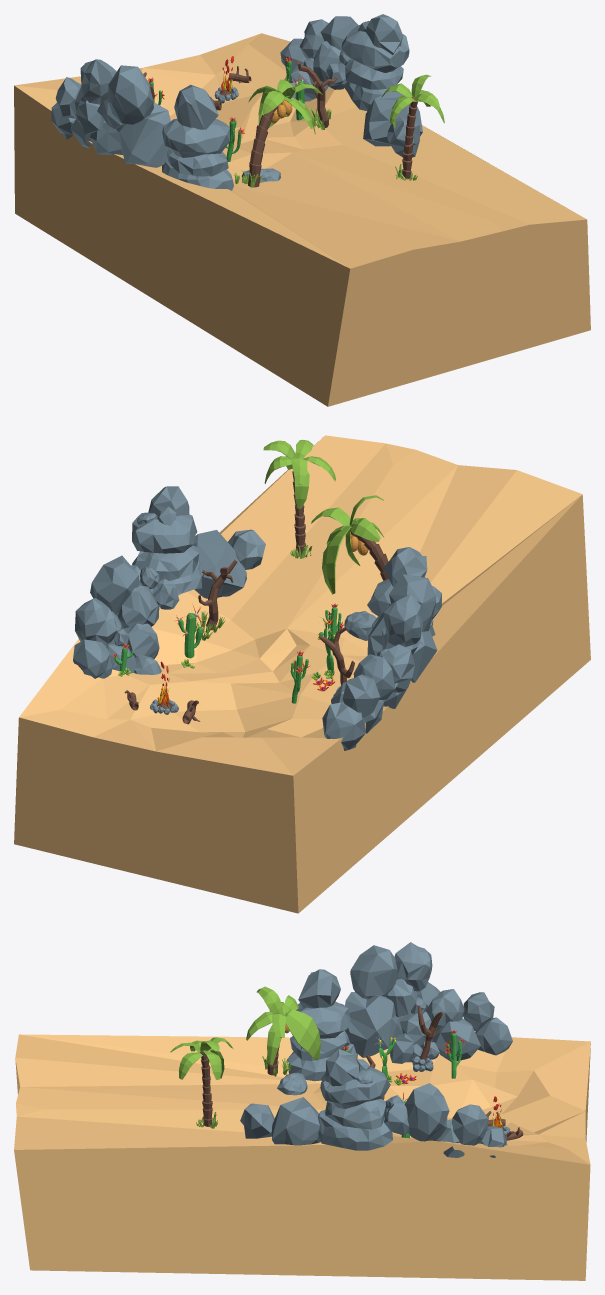
File: desert_roguelike.fbx
3 views of the same model, one above another, from view 1: azimuth 30°, elevation 25°; view 2: azimuth 150°, elevation 25°; view 3: azimuth 270°, elevation 25° (orthographic). The views are drawn at different scales.
Parts seen in each view (by area): view 1: ground, group1185546261, group1158200431, group633535275, group789085278, group1617093177, group1780116240, group1560710981, group1233919075, group560383347, group1605114541, group1601044192 (+12 smaller); view 2: ground, group1617093177, group789085278, group661573117, group1560710981, group909380306, group1050385950, group560383347, group1158200431, group1929408099, group1806915249, group1185546261 (+13 smaller); view 3: ground, group1185546261, group661573117, group1158200431, group1617093177, group1600033829, group789085278, group1560710981, group560383347, group1780116240, group362995327, group909380306 (+18 smaller).
Part boxes in pixels (x1,y1,x2,y2): ground: (14, 33, 590, 406); group1185546261: (116, 102, 170, 167); group1158200431: (108, 65, 153, 124); group633535275: (162, 118, 229, 157); group789085278: (341, 21, 409, 72); group1617093177: (363, 91, 422, 146); group1780116240: (174, 84, 218, 129); group1560710981: (80, 59, 116, 104); group1233919075: (166, 149, 228, 176); group560383347: (345, 59, 403, 89); group1605114541: (365, 14, 402, 54); group1601044192: (248, 105, 278, 187); ground: (14, 435, 590, 913); group1617093177: (193, 530, 246, 598); group789085278: (132, 512, 197, 553); group661573117: (90, 555, 139, 616); group1560710981: (383, 594, 422, 646); group909380306: (75, 598, 116, 645); group1050385950: (322, 702, 365, 750); group560383347: (132, 545, 199, 580); group1158200431: (389, 574, 436, 631); group1929408099: (118, 585, 159, 628); group1806915249: (73, 639, 112, 678); group1185546261: (367, 612, 437, 682); ground: (14, 1034, 590, 1280); group1185546261: (345, 992, 402, 1057); group661573117: (404, 1083, 449, 1141); group1158200431: (350, 945, 397, 999); group1617093177: (272, 1097, 320, 1145); group1600033829: (318, 1109, 392, 1150); group789085278: (320, 1067, 390, 1108); group1560710981: (394, 942, 432, 991); group560383347: (325, 1099, 385, 1129); group1780116240: (298, 969, 340, 1008); group362995327: (432, 1018, 480, 1061); group909380306: (452, 1104, 488, 1145).
Size of the model in its own units: 923 by 666 by 1562.
